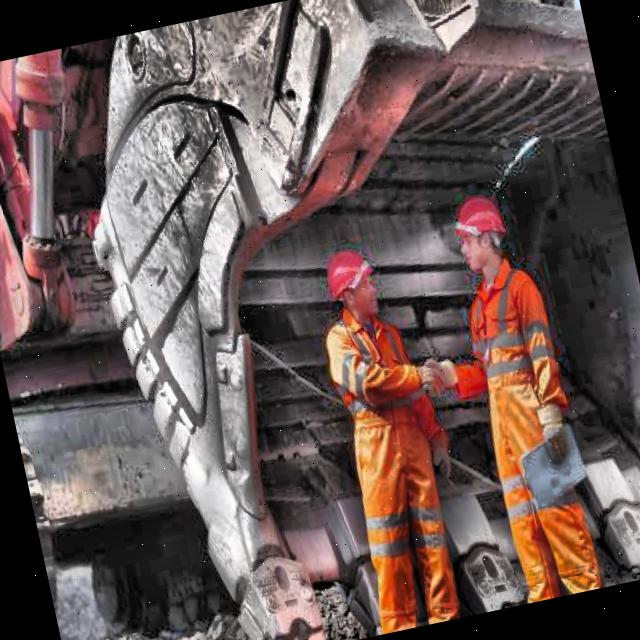helmet: (442, 183, 520, 284), (316, 237, 386, 330)
